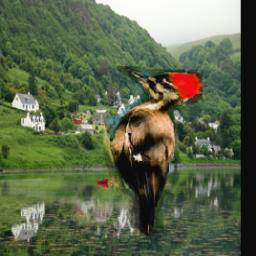Woodpecker: (99, 67, 203, 237)
